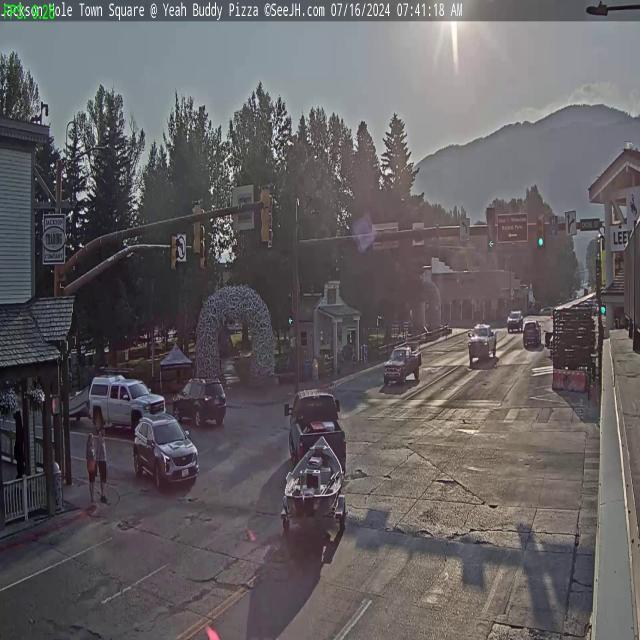person: (85, 420, 98, 502), (98, 420, 108, 506)
pickup: (283, 388, 349, 472), (382, 342, 420, 388), (468, 322, 498, 363)
suv: (130, 414, 200, 490), (172, 376, 228, 430), (523, 321, 542, 346), (506, 310, 524, 332)
traffic light: (260, 183, 272, 244), (190, 200, 203, 256), (486, 207, 496, 249), (536, 214, 546, 248), (170, 234, 178, 272), (200, 240, 208, 270)
truck: (89, 376, 165, 431)
